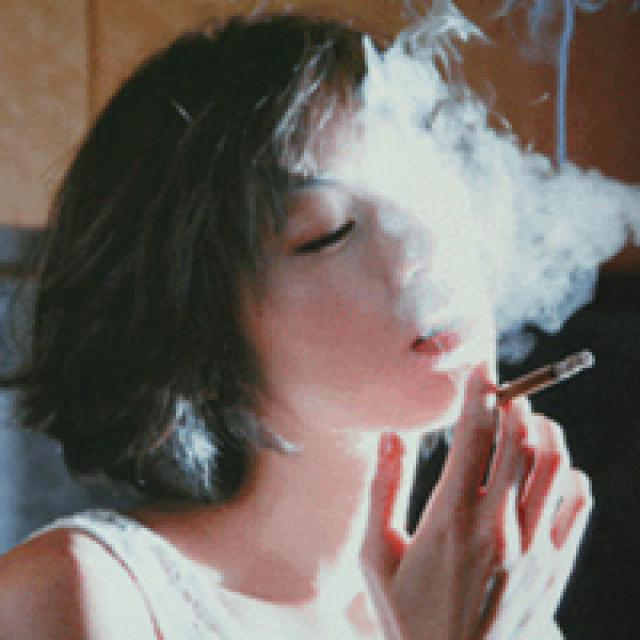cigarette: (498, 351, 597, 412)
